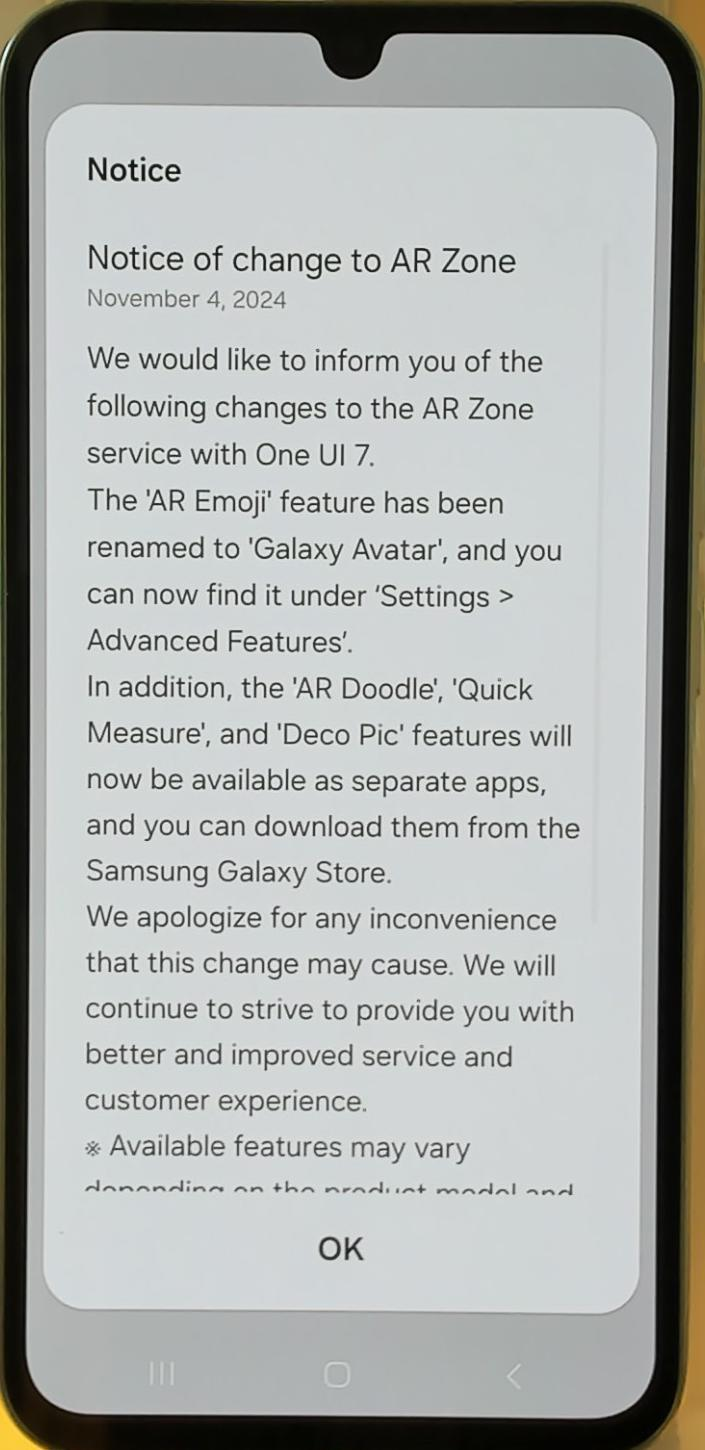CommunBotton: (492, 1342, 544, 1406), (308, 1224, 380, 1270), (134, 1340, 184, 1400), (314, 1346, 364, 1400)
